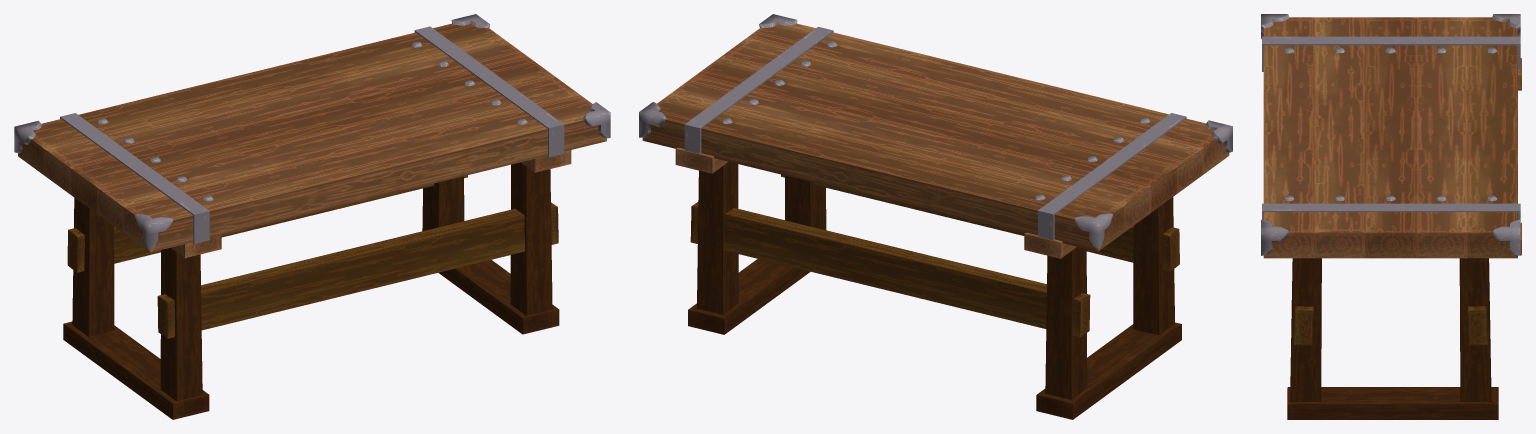
The model's file is Workbench.glb.
3 renders of one model, left to right at view 1: azimuth 30°, elevation 25°; view 2: azimuth 150°, elevation 25°; view 3: azimuth 270°, elevation 25°, orthographic. The views are drawn at different scales.
Parts seen in each view (by area): view 1: Workbench; view 2: Workbench; view 3: Workbench.
Part boxes in pixels (left/top/right/bottom): Workbench: left=14, top=14, right=610, bottom=419; Workbench: left=639, top=14, right=1232, bottom=419; Workbench: left=1261, top=14, right=1521, bottom=419.
Size of the model in its own units: 2.02 by 0.8945 by 1.02.
Materials: 2 (2 with a texture image).
